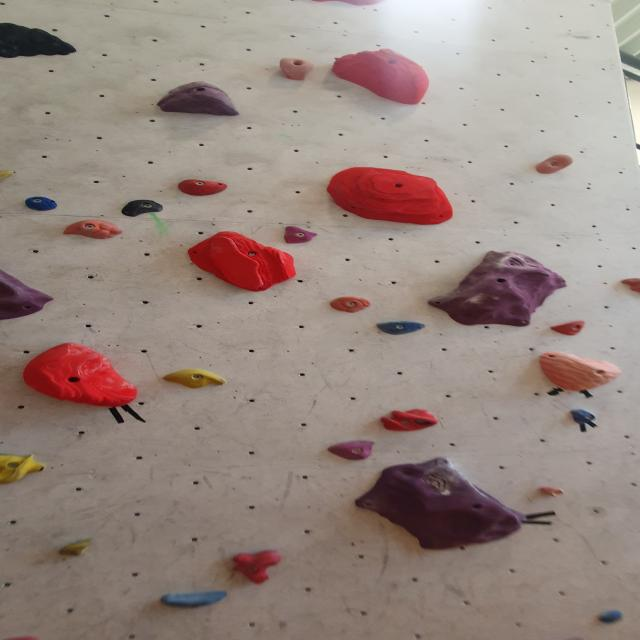Crimp: (346, 452, 528, 556), (429, 249, 574, 332), (322, 170, 454, 229), (0, 267, 56, 322), (157, 582, 234, 614), (158, 368, 233, 393), (174, 177, 230, 198), (371, 319, 431, 336), (326, 296, 374, 316), (55, 536, 97, 558), (548, 318, 591, 338), (280, 226, 319, 246), (564, 408, 604, 427), (23, 196, 64, 214), (594, 609, 629, 627), (537, 484, 568, 500)
Jug: (0, 16, 85, 64), (229, 546, 289, 589), (0, 451, 50, 488), (527, 154, 572, 172)
Pinch: (185, 232, 301, 296), (273, 54, 317, 82)
Sloper: (19, 340, 141, 405), (326, 45, 434, 106), (534, 349, 624, 393), (152, 82, 245, 120), (377, 408, 440, 436), (61, 220, 124, 242)
